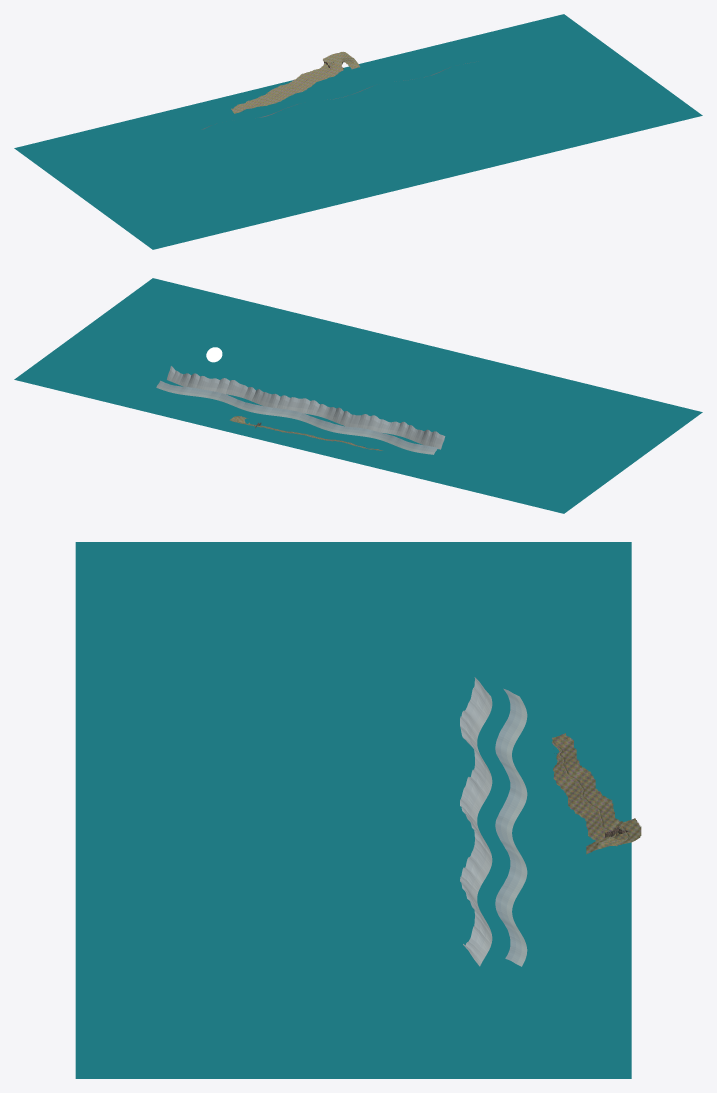
Rendered from bealach.glb.
3 views of the same model, one above another, from view 1: azimuth 30°, elevation 25°; view 2: azimuth 150°, elevation 25°; view 3: azimuth 270°, elevation 25° (orthographic). The views are drawn at different scales.
Visible parts, largest first — view 1: Sea; view 2: Sea, Peaks; view 3: Sea, Peaks.
Boxes of the visible parts, x1,y1,x2,y2 form: Sea: (14,14,702,249); Sea: (14,278,702,513); Peaks: (156,366,445,454); Sea: (75,542,631,1078); Peaks: (460,677,527,966).
Size of the model in its own units: 32000 by 2353 by 14244.
